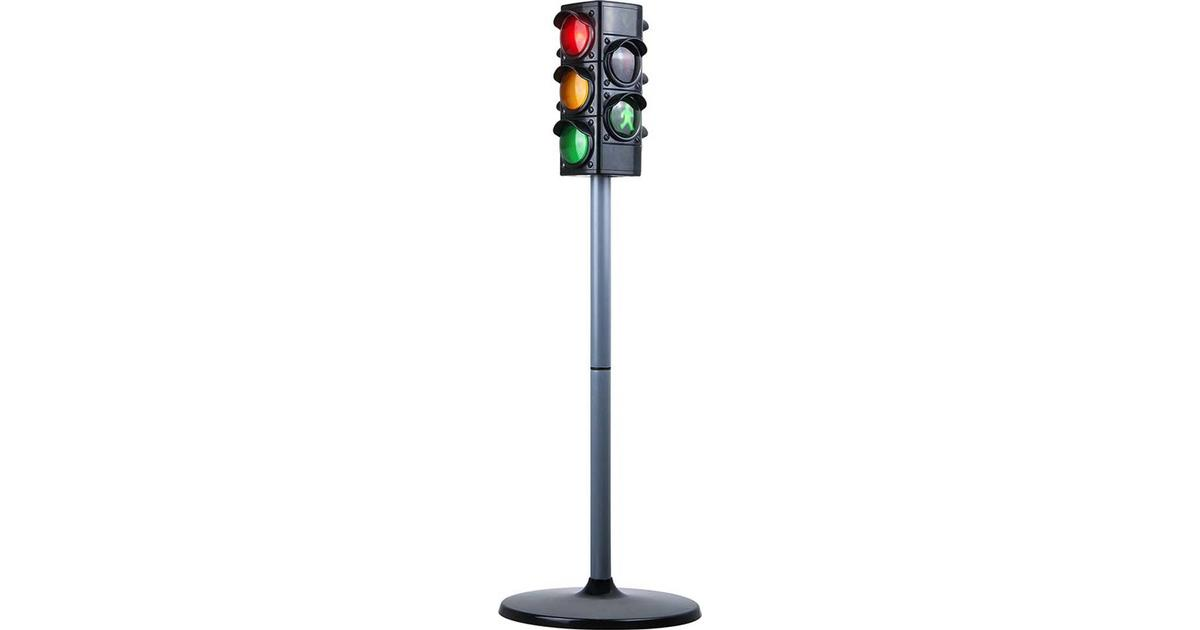trafficLight: (545, 1, 654, 183)
